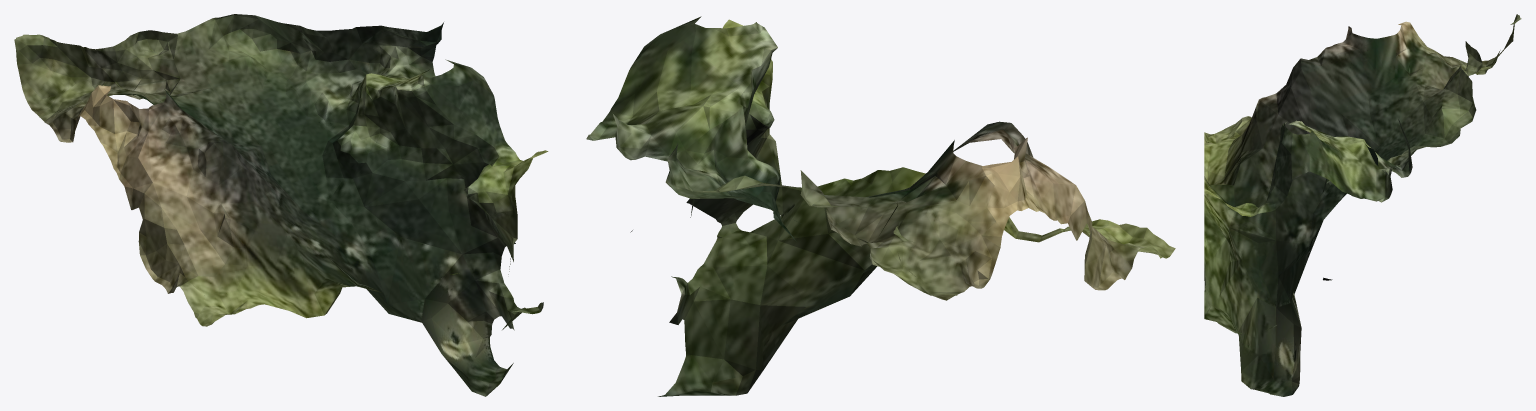
3 views of the same model, side by side, from view 1: azimuth 30°, elevation 25°; view 2: azimuth 150°, elevation 25°; view 3: azimuth 270°, elevation 25° (orthographic). The views are drawn at different scales.
Bounding box in the file's own units: 5.9 × 5.15 × 5.85.
Materials: 4 (4 with a texture image).
